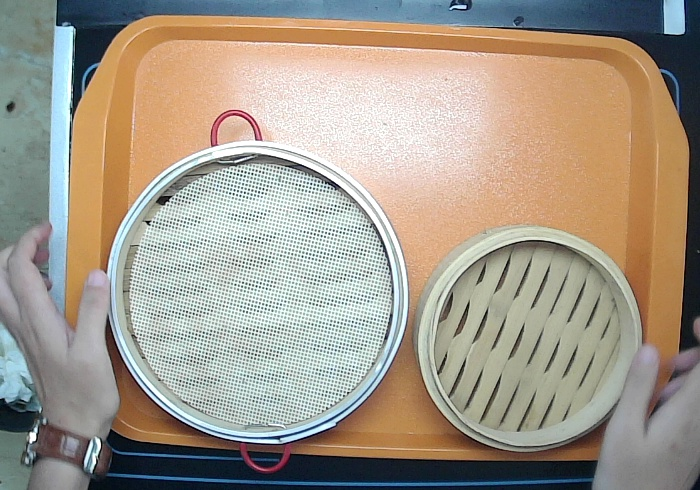ZNLD-Da_Zheng_Long: (100, 101, 412, 481)
ZNLD-Xiao_Zheng_Long: (410, 220, 647, 454)
